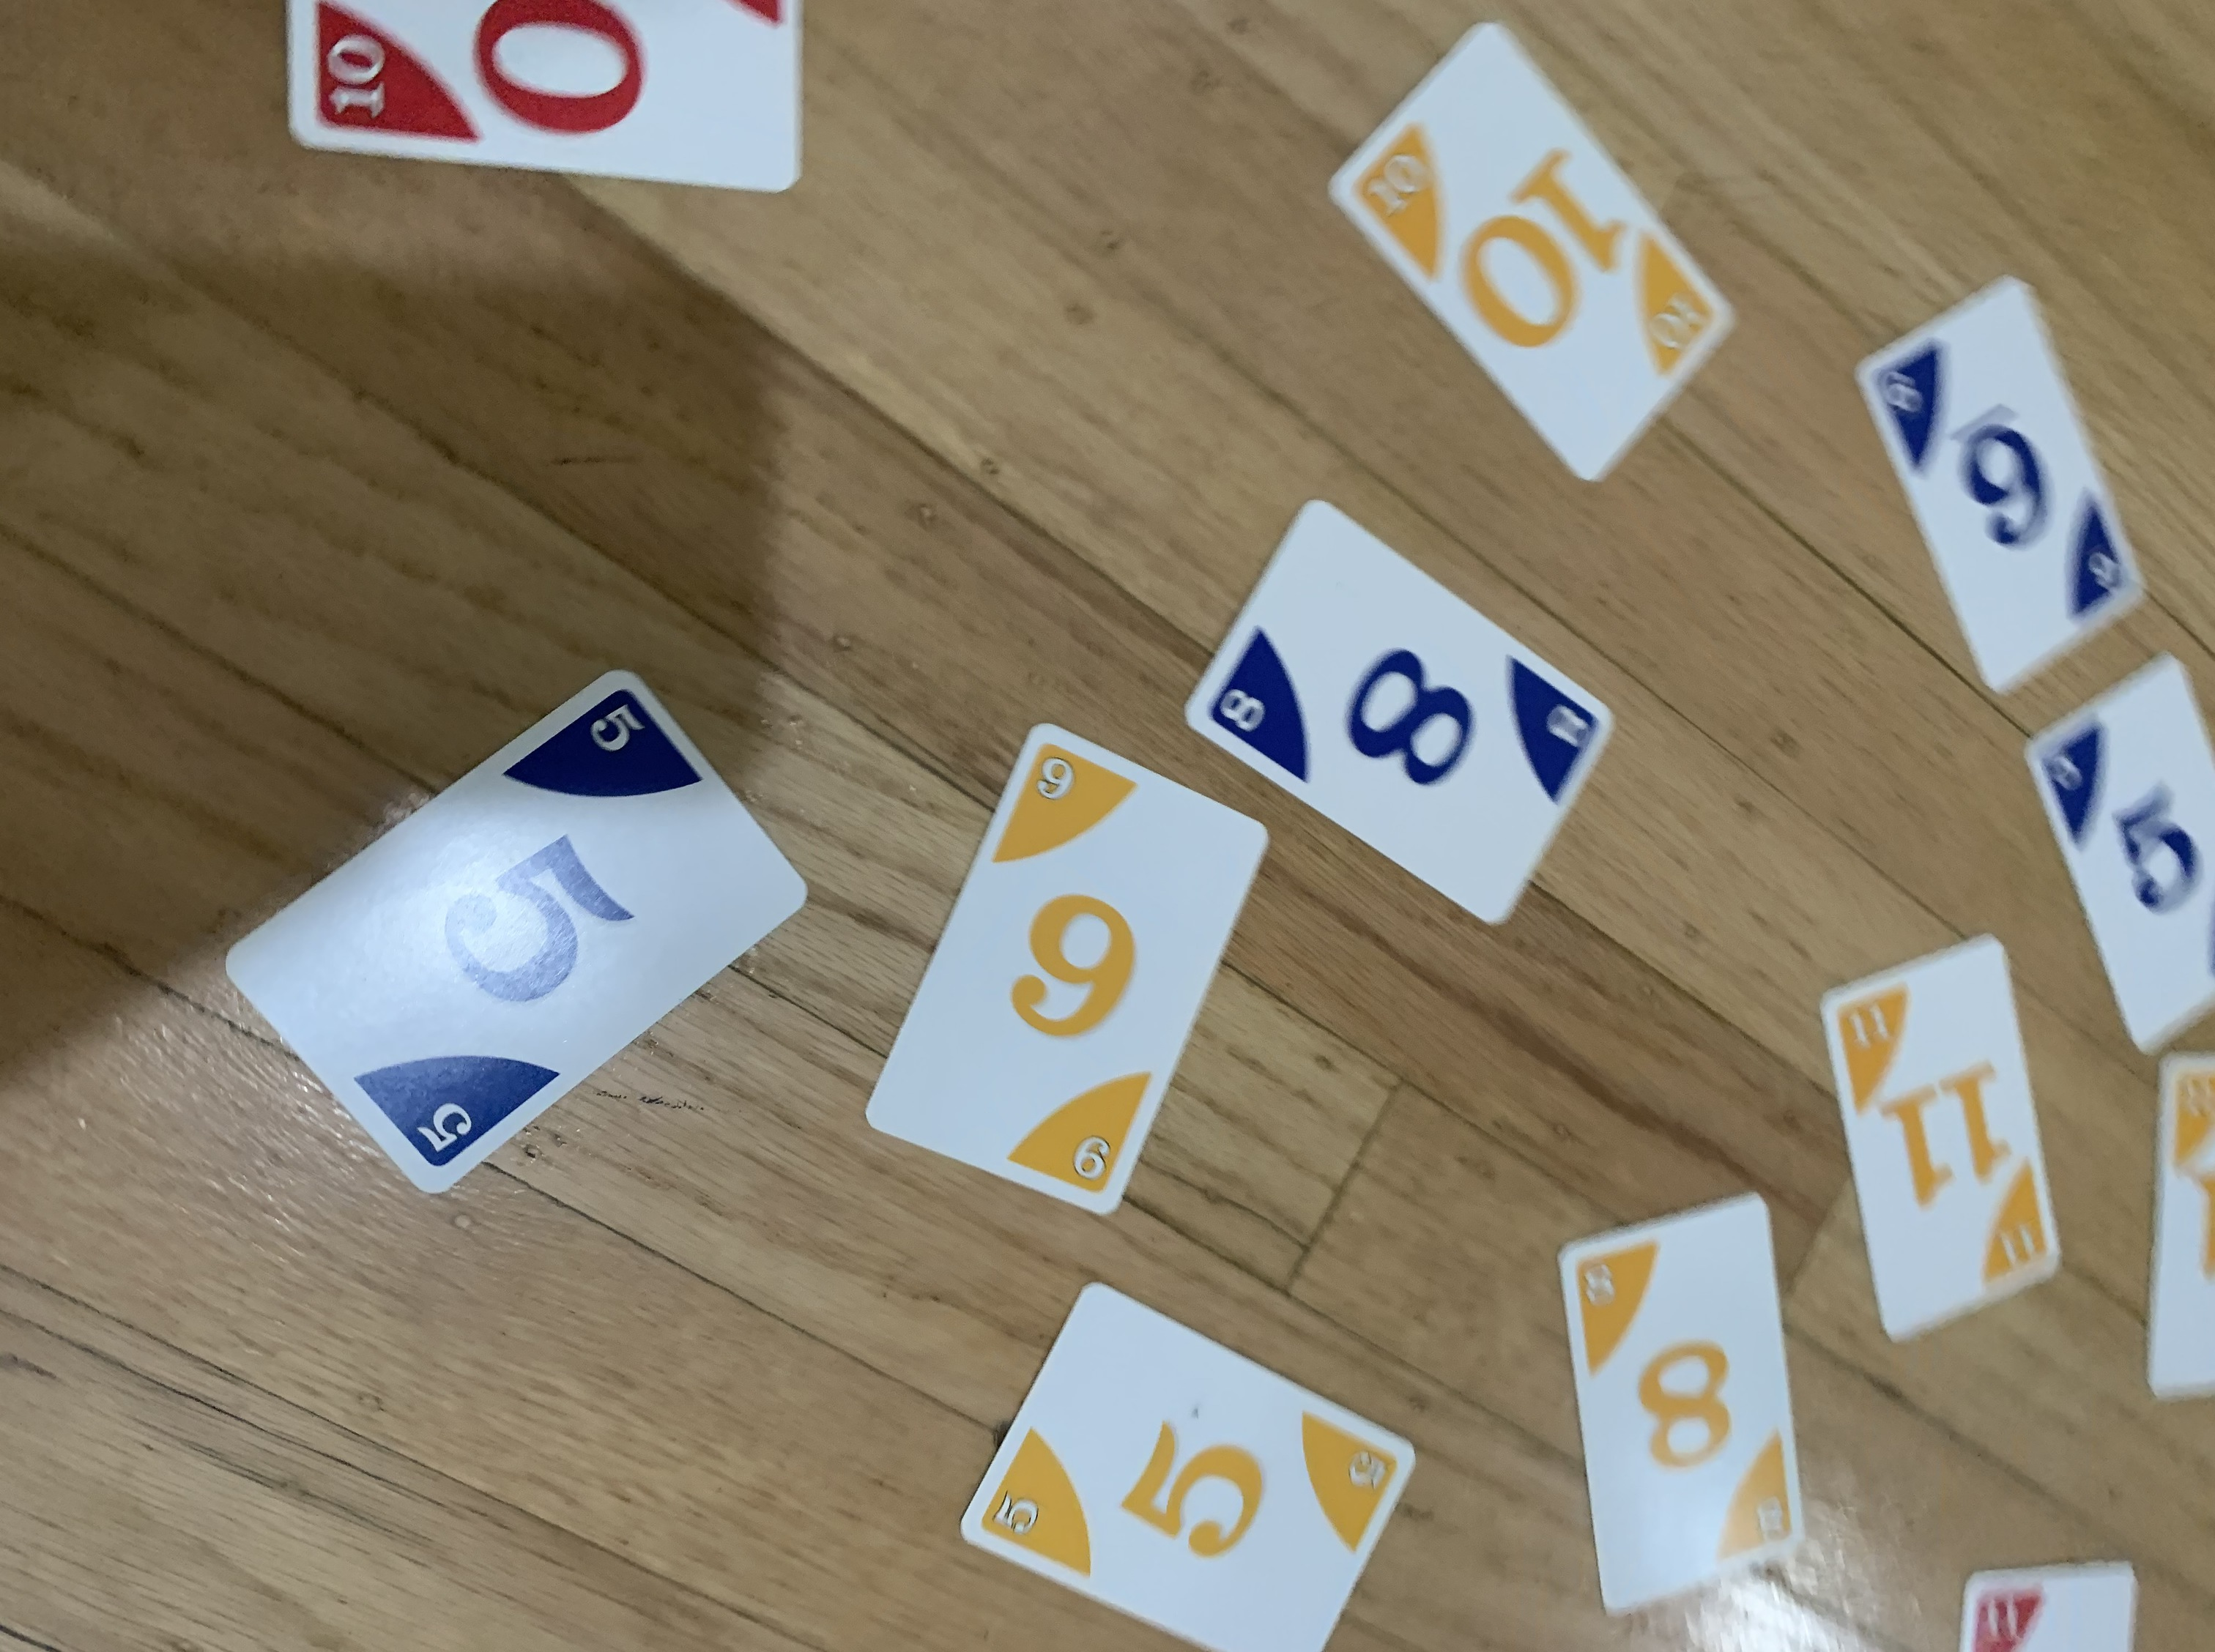eight: (1182, 484, 1616, 932), (1543, 1182, 1812, 1621)
eleven: (1807, 925, 2074, 1350)
five: (215, 666, 816, 1218), (932, 1274, 1420, 1652)
nine: (851, 705, 1274, 1227)
ten: (1318, 17, 1738, 475)
